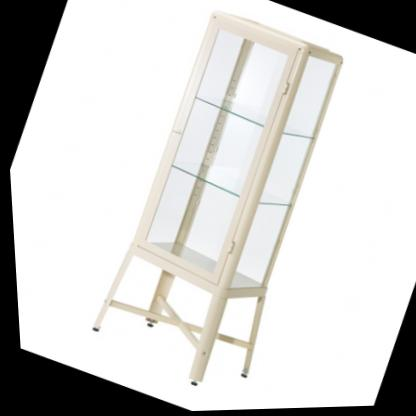Cabinet: (59, 0, 376, 412)
